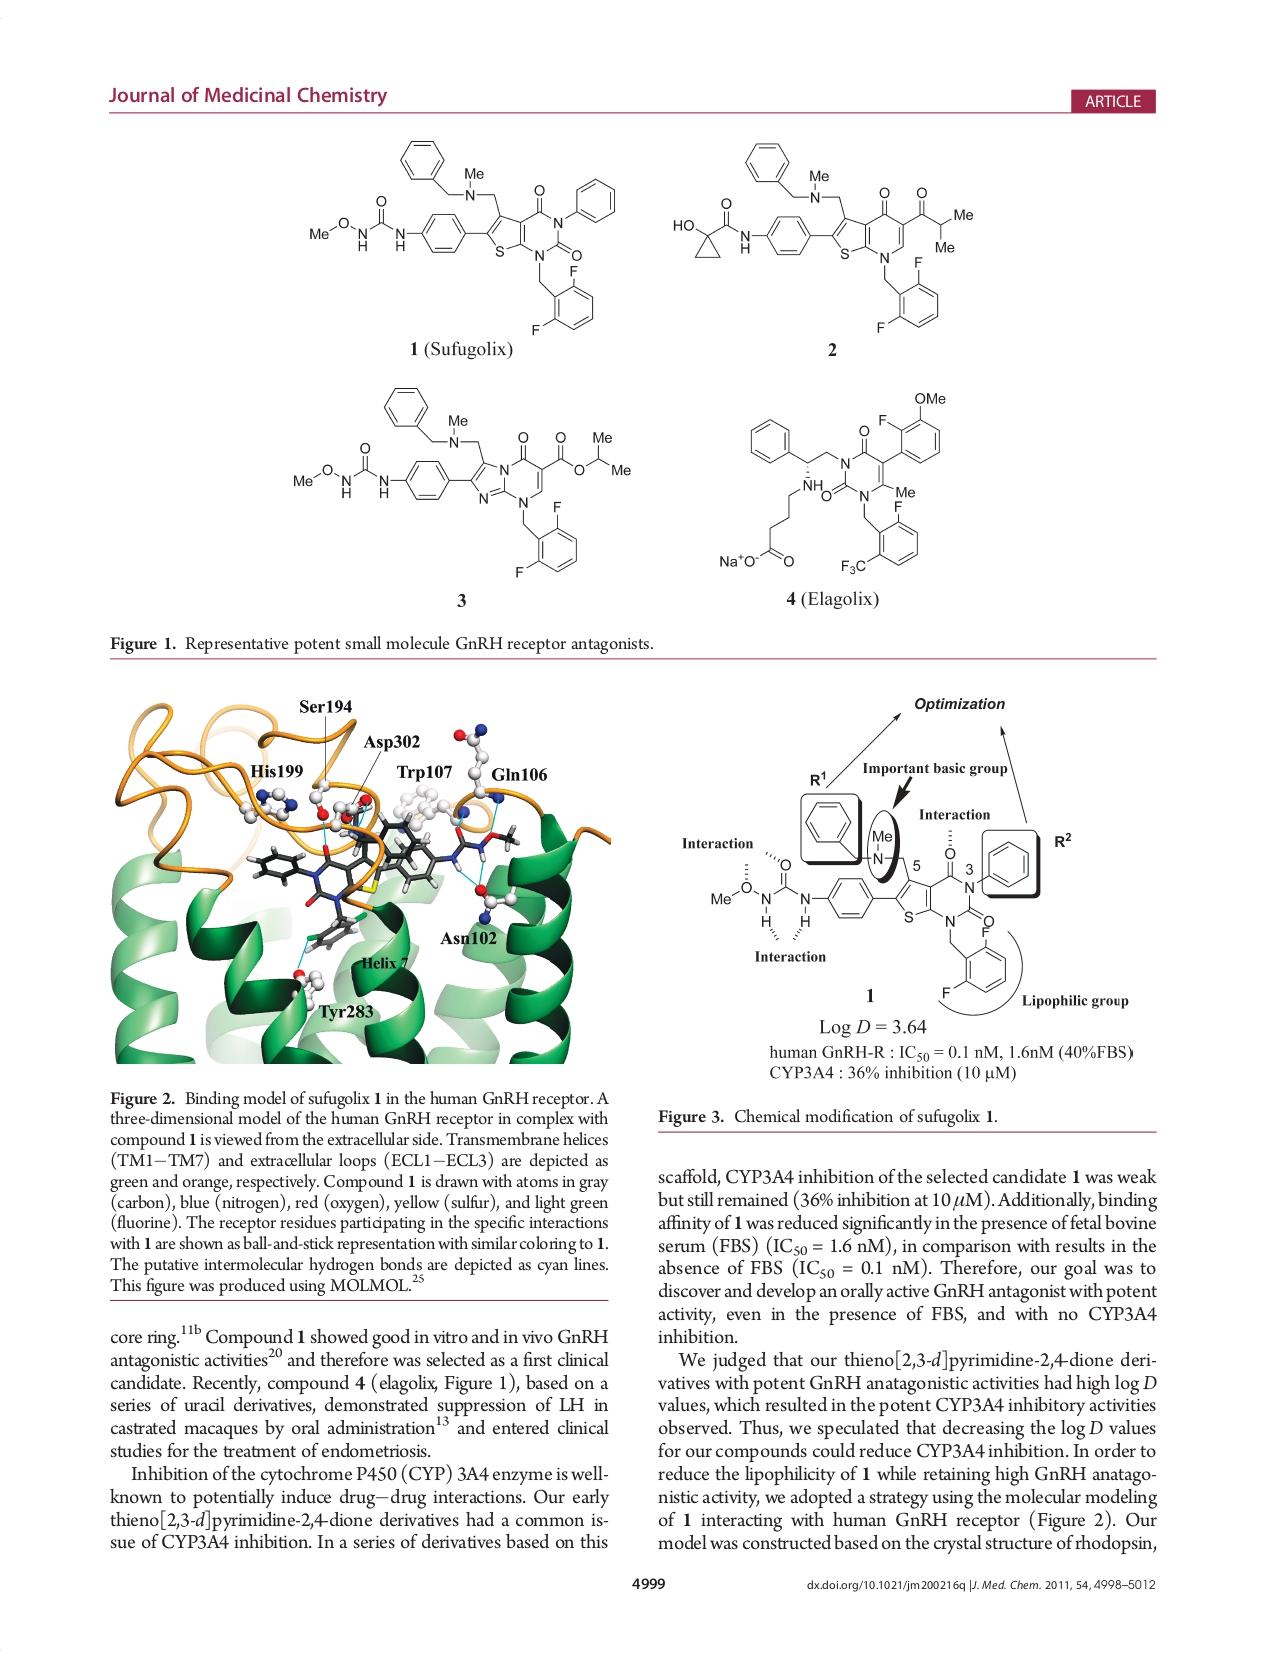exist_molecular: (290, 382, 633, 582), (707, 799, 1033, 1003), (305, 133, 618, 338), (672, 136, 976, 336), (715, 390, 947, 578)
